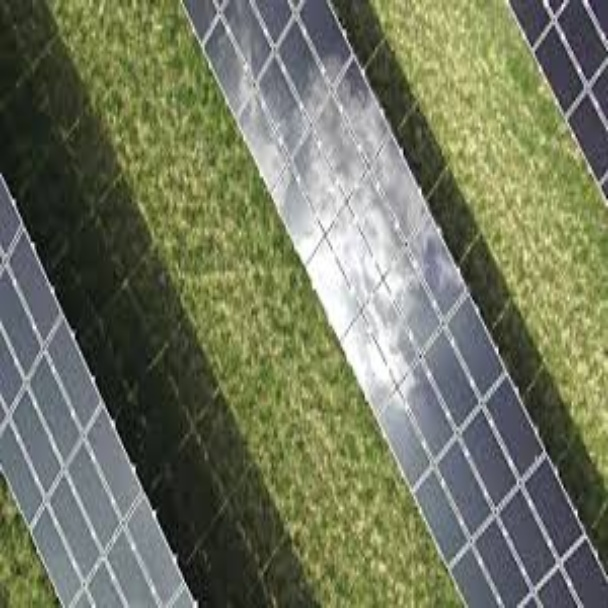solarpanels: (184, 2, 608, 605), (1, 146, 197, 608)
